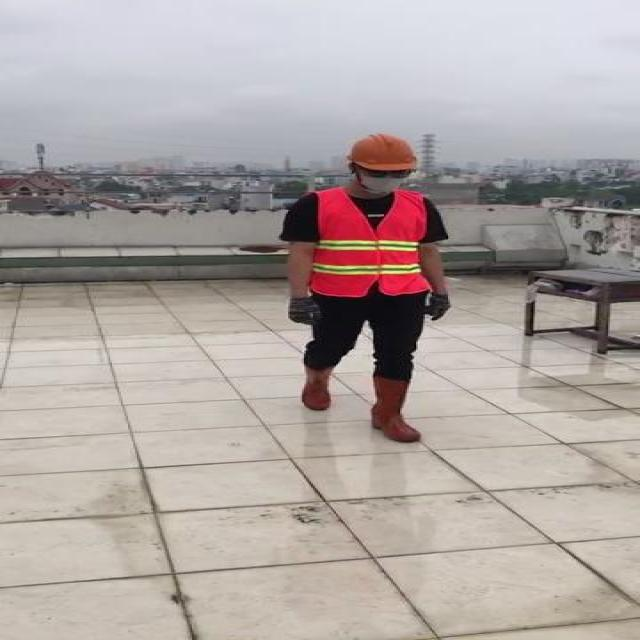boots: (371, 372, 425, 443), (299, 360, 334, 412)
face_mask: (354, 164, 412, 193)
glasses: (364, 166, 416, 180)
hand_glove: (423, 290, 453, 319), (288, 298, 320, 324)
head_helmet: (342, 132, 419, 172)
person: (278, 132, 460, 450)
vest: (313, 187, 432, 294)
